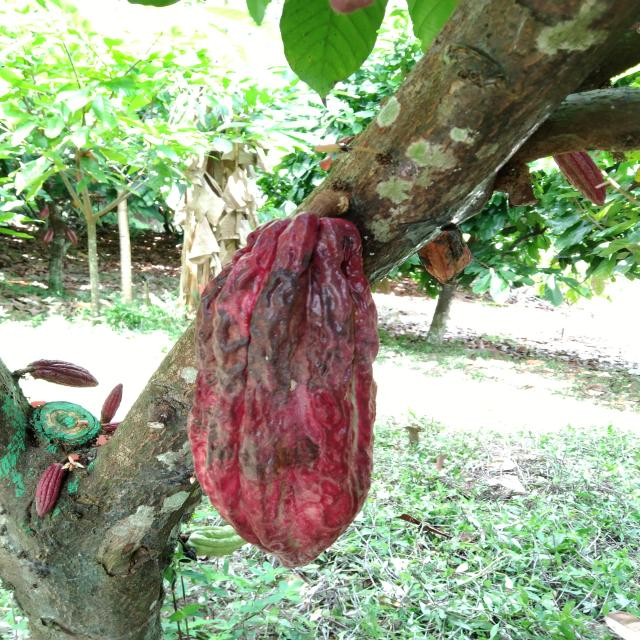Fitoftora: (185, 213, 380, 567), (410, 227, 478, 291)
Sana: (543, 153, 608, 204), (23, 356, 100, 392), (183, 528, 249, 556), (33, 463, 66, 518), (95, 382, 125, 423)
